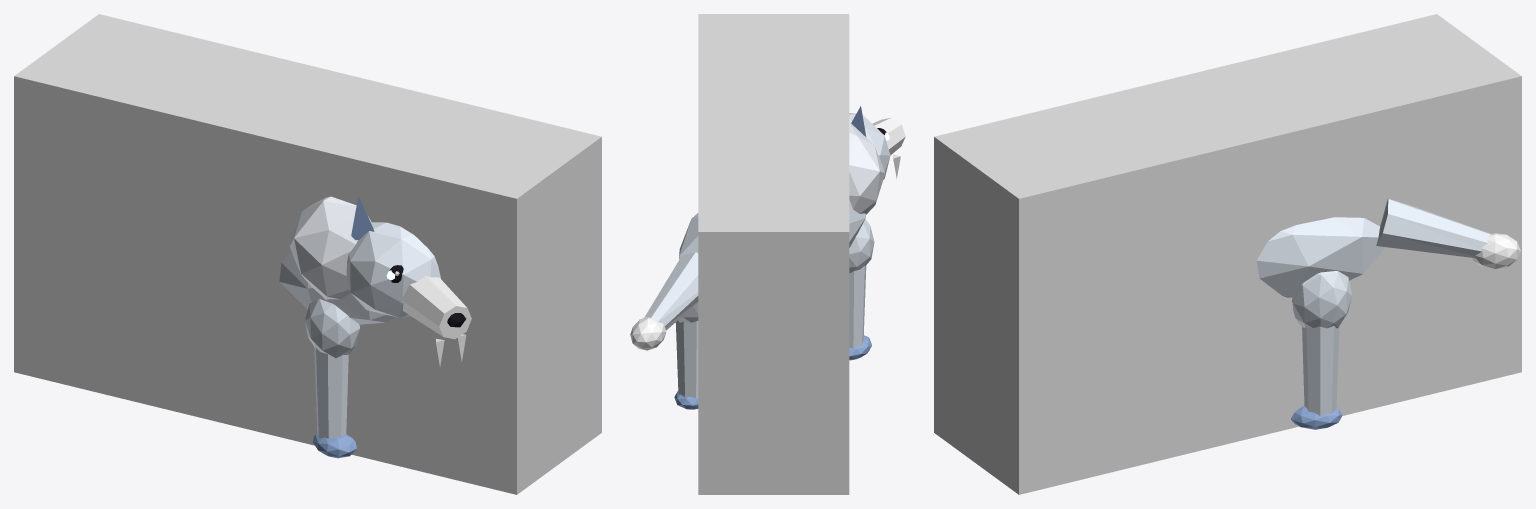
The model's file is tundra_frost_wolf_alpha.fbx.
The picture shows the model from 3 angles, left to right: view 1: azimuth 30°, elevation 25°; view 2: azimuth 150°, elevation 25°; view 3: azimuth 270°, elevation 25°; orthographic projection. The views are drawn at different scales.
Visible parts, largest first — view 1: Root__0.03_4.98_0.49__5.20_10.00_17.78, Head__Body__0.00_6.13_-2.67, Body__Root__0.00_5.62_0.00, LegFR__Body__1.34_4.24_-2.97; view 2: Root__0.03_4.98_0.49__5.20_10.00_17.78, Body__Root__0.00_5.62_0.00, Tail__Body__0.00_6.27_5.12, LegFR__Body__1.34_4.24_-2.97, LegBL__Body__-1.34_4.24_3.24, Head__Body__0.00_6.13_-2.67; view 3: Root__0.03_4.98_0.49__5.20_10.00_17.78, Body__Root__0.00_5.62_0.00, LegBL__Body__-1.34_4.24_3.24, Tail__Body__0.00_6.27_5.12.
Part boxes in pixels (<box>): Root__0.03_4.98_0.49__5.20_10.00_17.78: <box>14,14,601,494</box>; Head__Body__0.00_6.13_-2.67: <box>346,196,471,366</box>; Body__Root__0.00_5.62_0.00: <box>279,196,395,324</box>; LegFR__Body__1.34_4.24_-2.97: <box>305,299,359,458</box>; Root__0.03_4.98_0.49__5.20_10.00_17.78: <box>698,14,849,494</box>; Body__Root__0.00_5.62_0.00: <box>679,122,885,259</box>; Tail__Body__0.00_6.27_5.12: <box>630,252,698,350</box>; LegFR__Body__1.34_4.24_-2.97: <box>849,219,874,360</box>; LegBL__Body__-1.34_4.24_3.24: <box>674,303,698,409</box>; Head__Body__0.00_6.13_-2.67: <box>849,106,905,179</box>; Root__0.03_4.98_0.49__5.20_10.00_17.78: <box>934,14,1521,494</box>; Body__Root__0.00_5.62_0.00: <box>1256,217,1385,297</box>; LegBL__Body__-1.34_4.24_3.24: <box>1291,271,1352,429</box>; Tail__Body__0.00_6.27_5.12: <box>1376,198,1520,269</box>.
Size of the model in its own units: 375 by 282 by 504.
2 materials, 1 textured.
